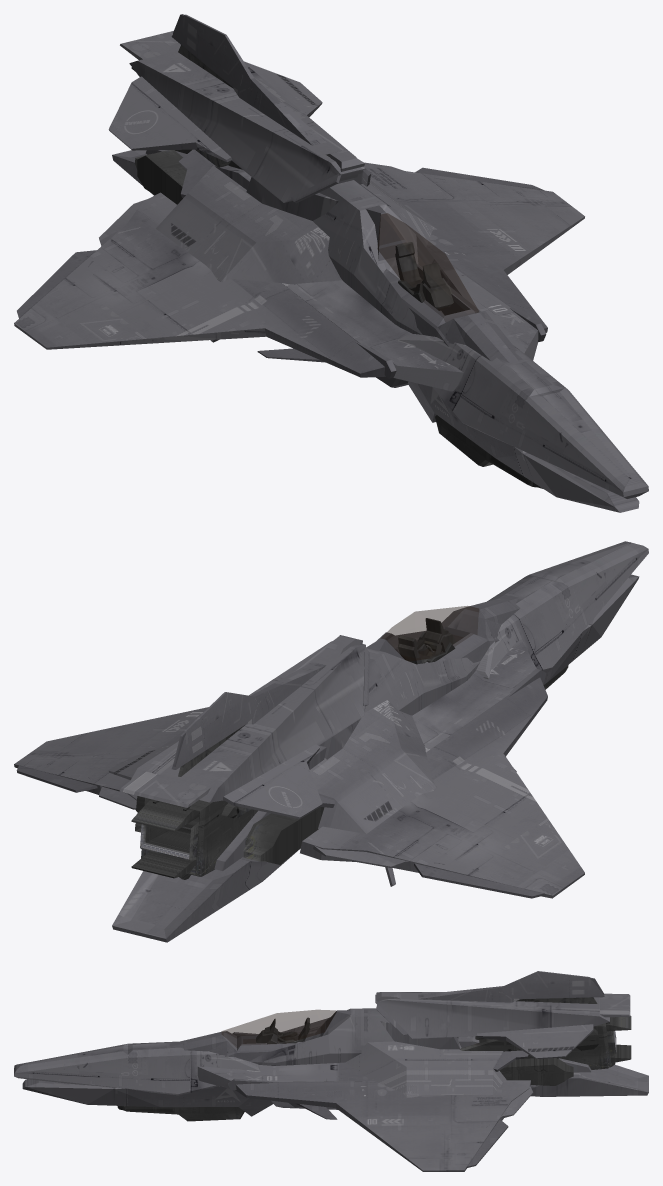
File: fighter_black.FBX
3 views of the same model, one above another, from view 1: azimuth 30°, elevation 25°; view 2: azimuth 150°, elevation 25°; view 3: azimuth 270°, elevation 25° (orthographic). The views are drawn at different scales.
Visible parts, largest first — view 1: body, cockpit_glass, frame, cockpit; view 2: body, frame, cockpit_glass, cockpit; view 3: body, frame, cockpit_glass, cockpit.
Part boxes in pixels (box(x1,y1,x2,y2)): body: box(14, 14, 648, 512); cockpit_glass: box(377, 213, 478, 321); frame: box(131, 45, 542, 488); cockpit: box(395, 242, 453, 310); body: box(14, 541, 648, 942); frame: box(131, 665, 568, 879); cockpit_glass: box(381, 606, 478, 661); cockpit: box(398, 618, 456, 664); body: box(14, 971, 648, 1171); frame: box(117, 997, 631, 1121); cockpit_glass: box(222, 1010, 335, 1047); cockpit: box(256, 1017, 310, 1044).
Size of the model in its own units: 833 by 337 by 1332.
